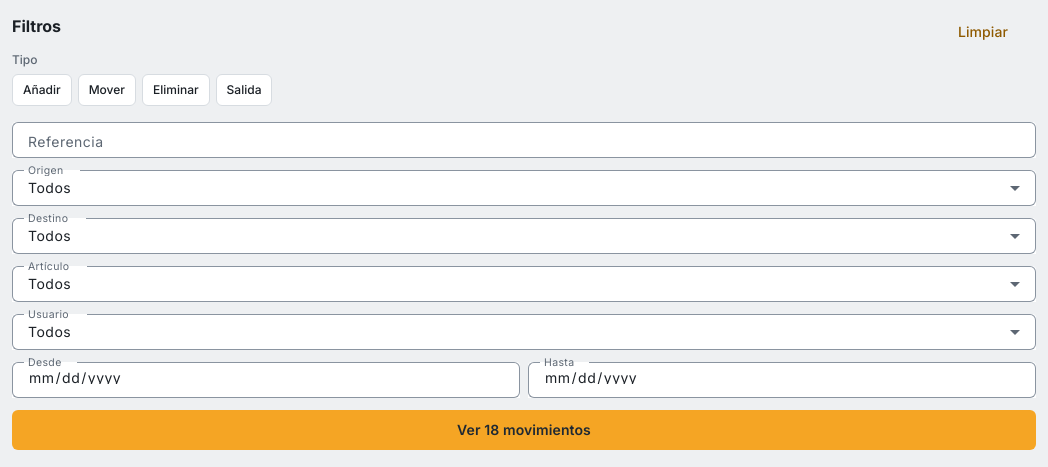
it: HistoryFiltersPanelComponent › una respuesta antigua no pisa la cuenta más reciente
The width and height of the screenshot is (1048, 467).
Step 1. Click the button "Salida" → (244, 90), box x1=216 y1=74 x2=272 y2=106
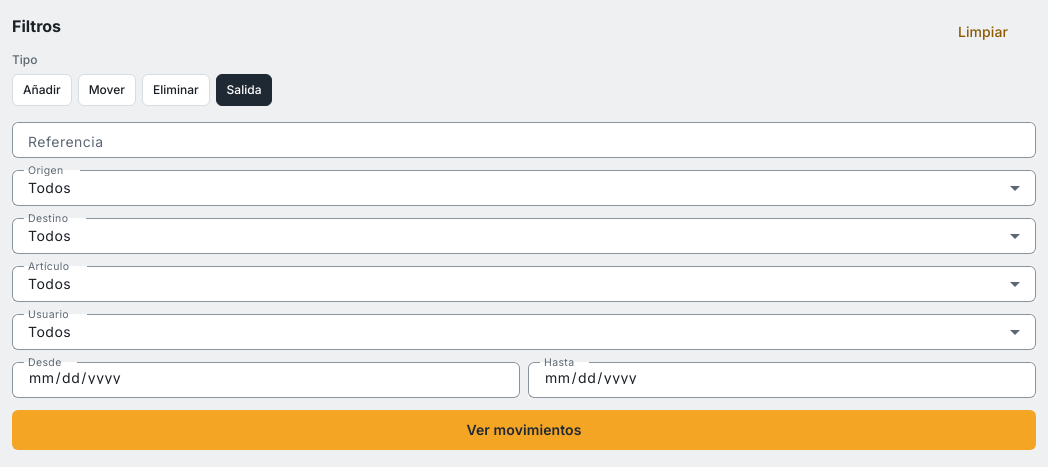
Step 2. Click the button "Mover" → (107, 90), box x1=78 y1=74 x2=136 y2=106
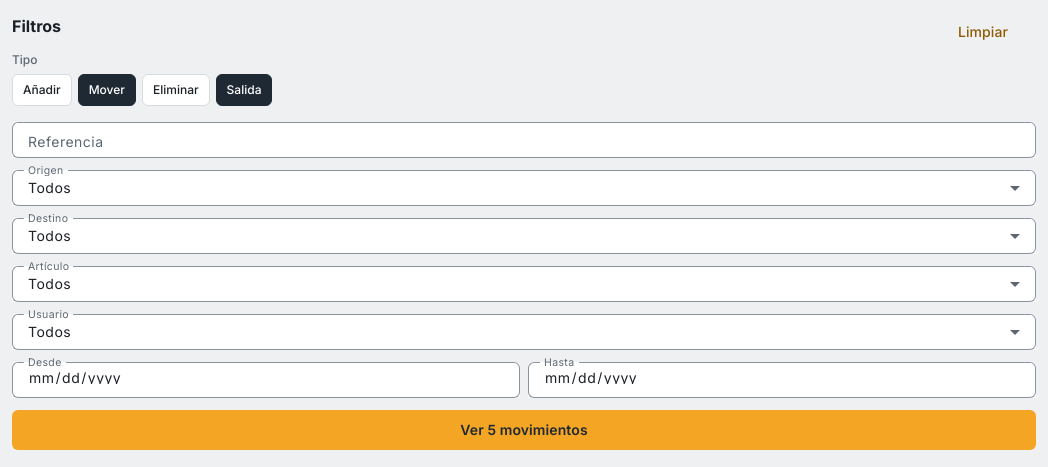
Check: the text "Ver 5 movimientos" is shown, box x1=460 y1=420 x2=588 y2=440
